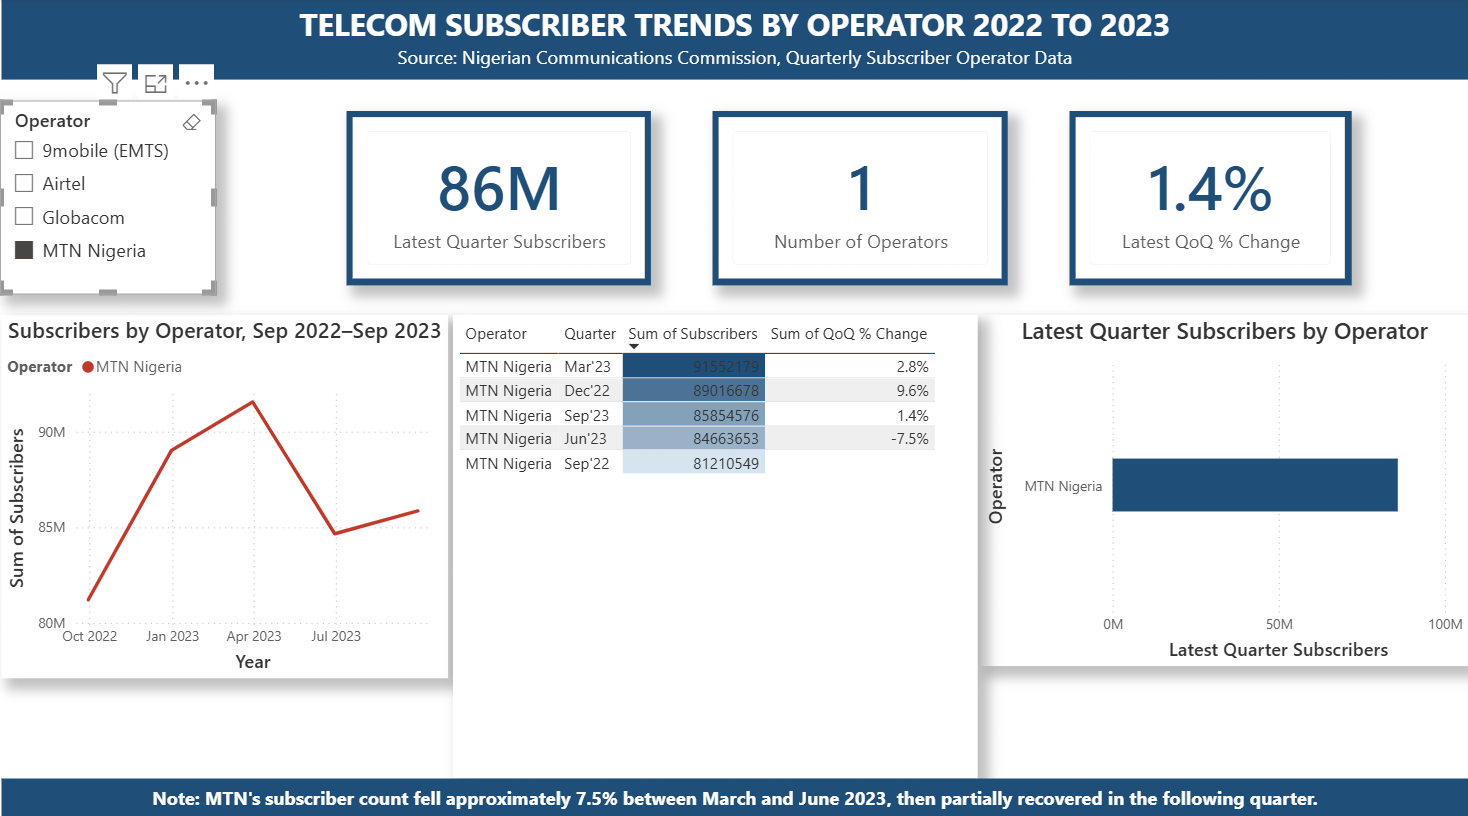

Layout of this report page (visuals, bound fields, positions):
{"tool":"powerbi","page":{"name":"Page 1","canvas":[1280,720],"ordinal":0},"visuals":[{"type":"slicer","fields":{"Values":["MasterSubscriberData.Operator"]},"box":[0,90.2,188.3,168.7],"z":0},{"type":"lineChart","title":"Subscribers by Operator, Sep 2022–Sep 2023","fields":{"Series":["MasterSubscriberData.Operator"],"Category":["MasterSubscriberData.Quarter End Date.Variation.Date Hierarchy.Year","MasterSubscriberData.Quarter End Date.Variation.Date Hierarchy.Quarter","MasterSubscriberData.Quarter End Date.Variation.Date Hierarchy.Month","MasterSubscriberData.Quarter End Date.Variation.Date Hierarchy.Day"],"Y":["Sum(MasterSubscriberData.Subscribers)"]},"box":[1.3,277.2,389.6,316.4],"z":1000},{"type":"cardVisual","fields":{"Data":["MasterSubscriberData.Latest Quarter Subscribers"]},"box":[302,99.4,265.4,151.7],"z":2000},{"type":"cardVisual","fields":{"Data":["MasterSubscriberData.Number of Operators"]},"box":[621.1,99.4,257.6,151.7],"z":3000},{"type":"cardVisual","fields":{"Data":["MasterSubscriberData.Latest QoQ % Change"]},"box":[932.3,99.4,245.8,151.7],"z":4000},{"type":"clusteredBarChart","fields":{"Category":["MasterSubscriberData.Operator"],"Y":["MasterSubscriberData.Latest Quarter Subscribers"]},"box":[855.1,277.2,424.9,306],"z":5000},{"type":"tableEx","fields":{"Values":["MasterSubscriberData.Operator","MasterSubscriberData.Quarter","Sum(MasterSubscriberData.Subscribers)","Sum(MasterSubscriberData.QoQ % Change)"]},"box":[394.2,277.2,457.6,404],"z":6000},{"type":"textbox","box":[1.3,0,1278.8,71.9],"z":7000},{"type":"textbox","box":[1.3,681.2,1278.8,39.2],"z":8000}]}

Visuals, with their boxes in screenshot pixels (x1, y1, x2, y2), scaled from the page's 1280x720 canvas onto the 1468x816 screenshot:
slicer - MasterSubscriberData.Operator: (0, 102, 216, 293)
"Subscribers by Operator, Sep 2022–Sep 2023" lineChart: (1, 314, 448, 673)
cardVisual - MasterSubscriberData.Latest Quarter Subscribers: (346, 113, 651, 285)
cardVisual - MasterSubscriberData.Number of Operators: (712, 113, 1008, 285)
cardVisual - MasterSubscriberData.Latest QoQ % Change: (1069, 113, 1351, 285)
clusteredBarChart - MasterSubscriberData.Operator x MasterSubscriberData.Latest Quarter Subscribers: (981, 314, 1467, 661)
tableEx - MasterSubscriberData.Operator x MasterSubscriberData.Quarter: (452, 314, 977, 772)
textbox: (1, 0, 1467, 81)
textbox: (1, 772, 1467, 815)
